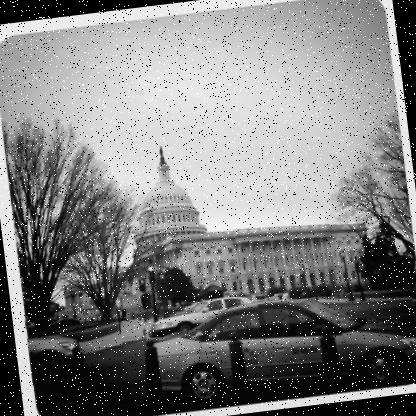Car: (119, 285, 415, 415), (142, 293, 260, 341), (26, 332, 86, 386), (48, 314, 80, 328), (184, 300, 206, 310), (251, 291, 268, 302), (21, 319, 35, 330)
